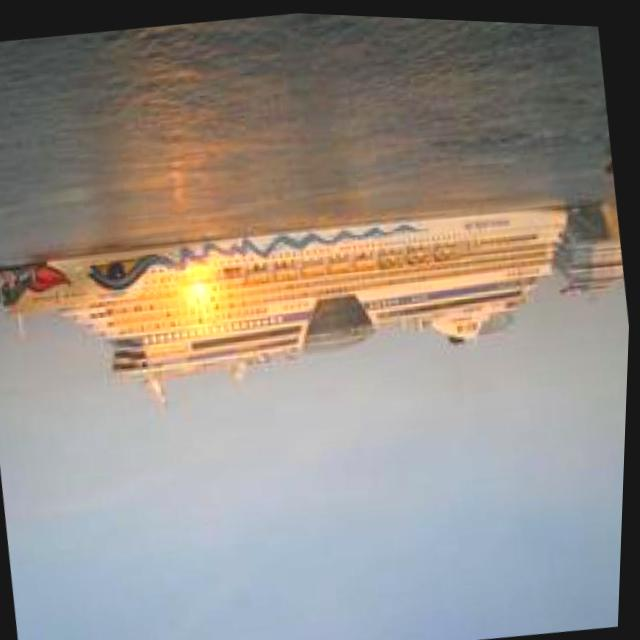ship2: (13, 202, 568, 403)
